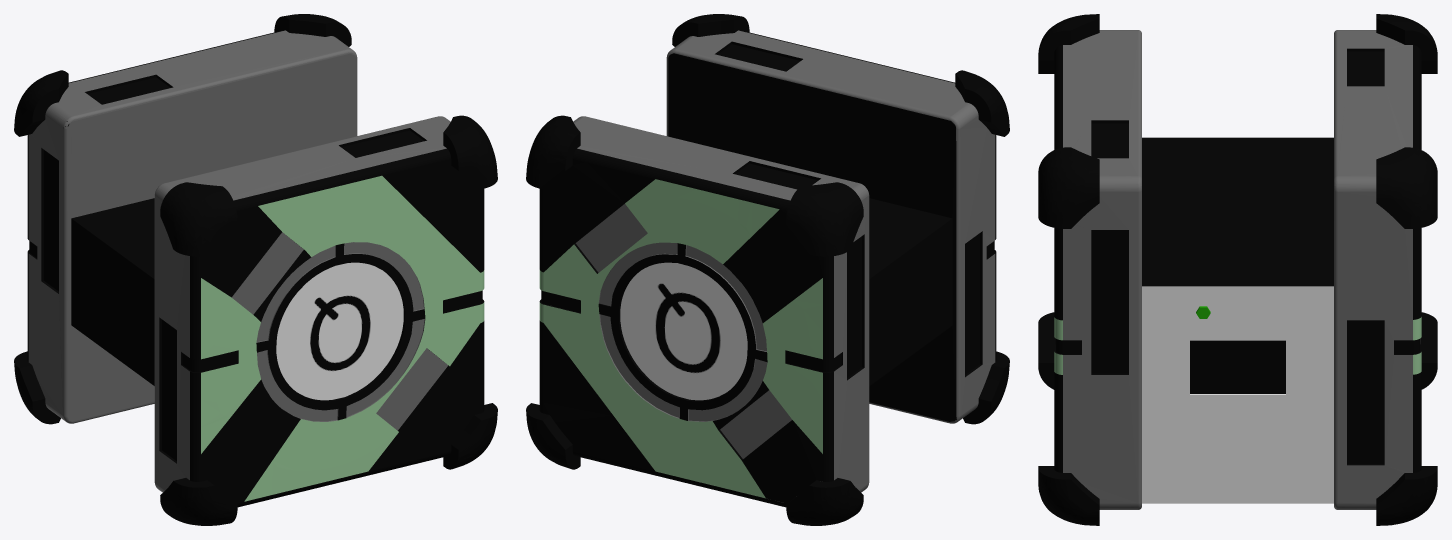
The model's file is AstrobeeQueen.dae.
3 views of the same model, side by side, from view 1: azimuth 30°, elevation 25°; view 2: azimuth 150°, elevation 25°; view 3: azimuth 270°, elevation 25° (orthographic). The views are drawn at different scales.
Parts seen in each view (by area): view 1: A9Sp-1500-M130-1_Merge; view 2: A9Sp-1500-M130-1_Merge; view 3: A9Sp-1500-M130-1_Merge.
Part boxes in pixels (x1,y1,x2,y2): A9Sp-1500-M130-1_Merge: (14, 14, 497, 525); A9Sp-1500-M130-1_Merge: (526, 14, 1009, 525); A9Sp-1500-M130-1_Merge: (1038, 14, 1437, 525).
Size of the model in its own units: 0.3093 by 0.3093 by 0.3093.
1 material, 1 textured.
